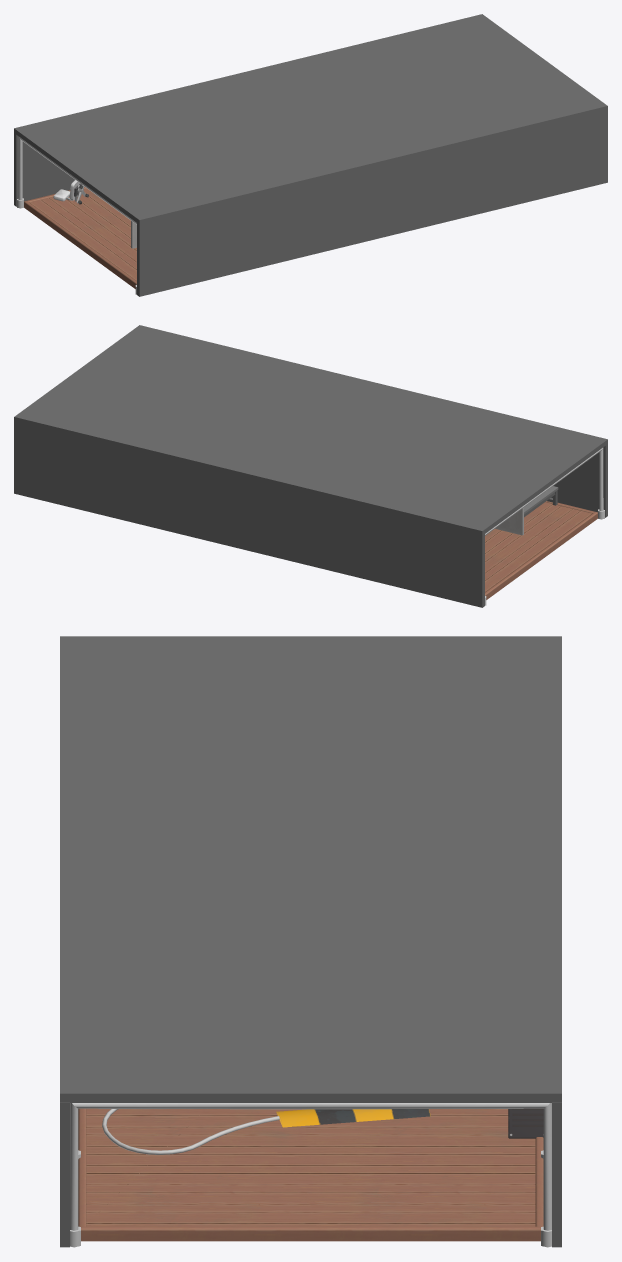
The model's file is Pfb_Tent__2.fbx.
3 views of the same model, one above another, from view 1: azimuth 30°, elevation 25°; view 2: azimuth 150°, elevation 25°; view 3: azimuth 270°, elevation 25° (orthographic). The views are drawn at different scales.
Visible parts, largest first — view 1: MAT_Tent_Roof 1, Mat_Tile_FloorWoodBlank02_3, Mat_Tile_Metal_01 3, Mat_Chair_01; view 2: MAT_Tent_Roof 1, Mat_Tile_FloorWoodBlank02_3, Mat_Tile_Metal_01 3, Mat_CementMold_1_Darker, Mat_Table_02_White_JLAB; view 3: MAT_Tent_Roof 1, Mat_Tile_FloorWoodBlank02_3, Mat_Tile_Metal_01 3, Mat_Roadblocks01, OfficeServer01A 1, Pipe_Dark.
Boxes of the visible parts, x1,y1,x2,y2 form: MAT_Tent_Roof 1: (14,14,607,296); Mat_Tile_FloorWoodBlank02_3: (24,187,136,288); Mat_Tile_Metal_01 3: (17,137,136,294); Mat_Chair_01: (53,180,88,204); MAT_Tent_Roof 1: (14,325,607,607); Mat_Tile_FloorWoodBlank02_3: (485,501,597,599); Mat_Tile_Metal_01 3: (485,448,604,605); Mat_CementMold_1_Darker: (495,507,523,535); Mat_Table_02_White_JLAB: (524,486,558,517); MAT_Tent_Roof 1: (60,636,561,1247); Mat_Tile_FloorWoodBlank02_3: (78,1108,543,1241); Mat_Tile_Metal_01 3: (70,1103,551,1247); Mat_Roadblocks01: (276,1109,430,1127); OfficeServer01A 1: (508,1108,543,1138); Pipe_Dark: (102,1109,279,1154).
Bounding box in the file's own units: 19.12 × 2.99 × 8.86.
Materials: 17 (17 with a texture image).
